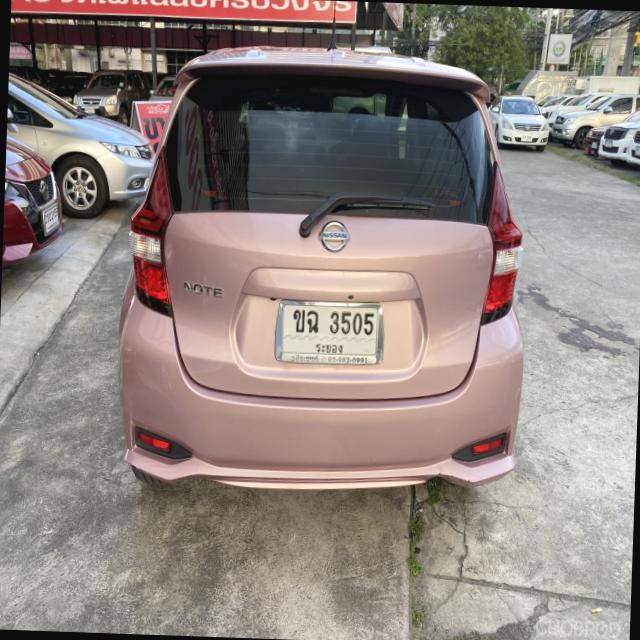license_plate: (266, 293, 392, 377)
